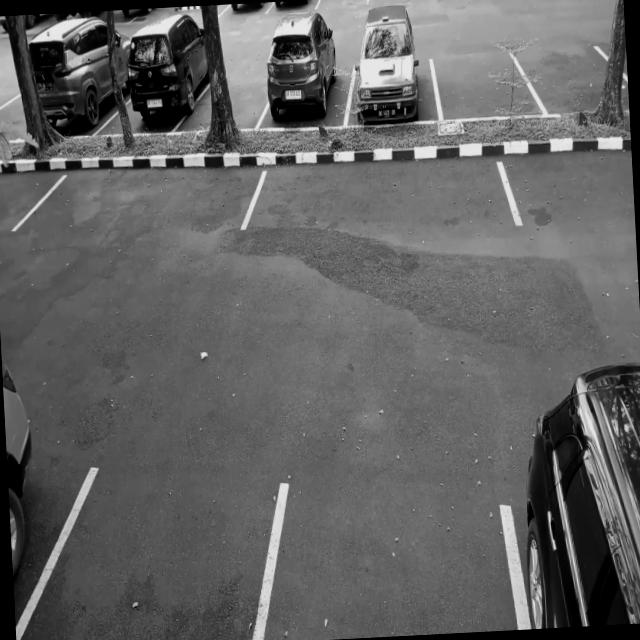car: (125, 28, 210, 134), (34, 37, 117, 140), (260, 39, 350, 132), (350, 41, 439, 126), (272, 0, 322, 14), (228, 2, 274, 17)
free: (12, 459, 286, 640), (255, 470, 524, 640), (252, 145, 514, 247), (40, 155, 258, 246), (501, 140, 632, 230), (524, 38, 624, 118), (436, 48, 534, 124), (0, 161, 42, 237)
